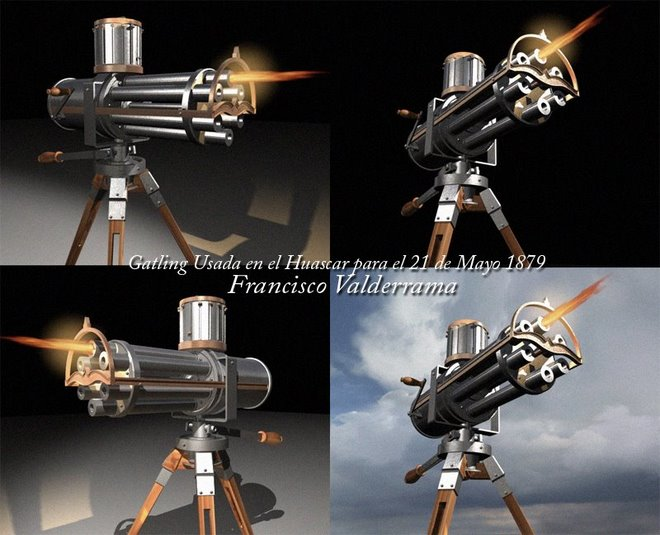rifle: (388, 13, 607, 249), (391, 291, 610, 527), (65, 294, 284, 530), (43, 17, 288, 225)
